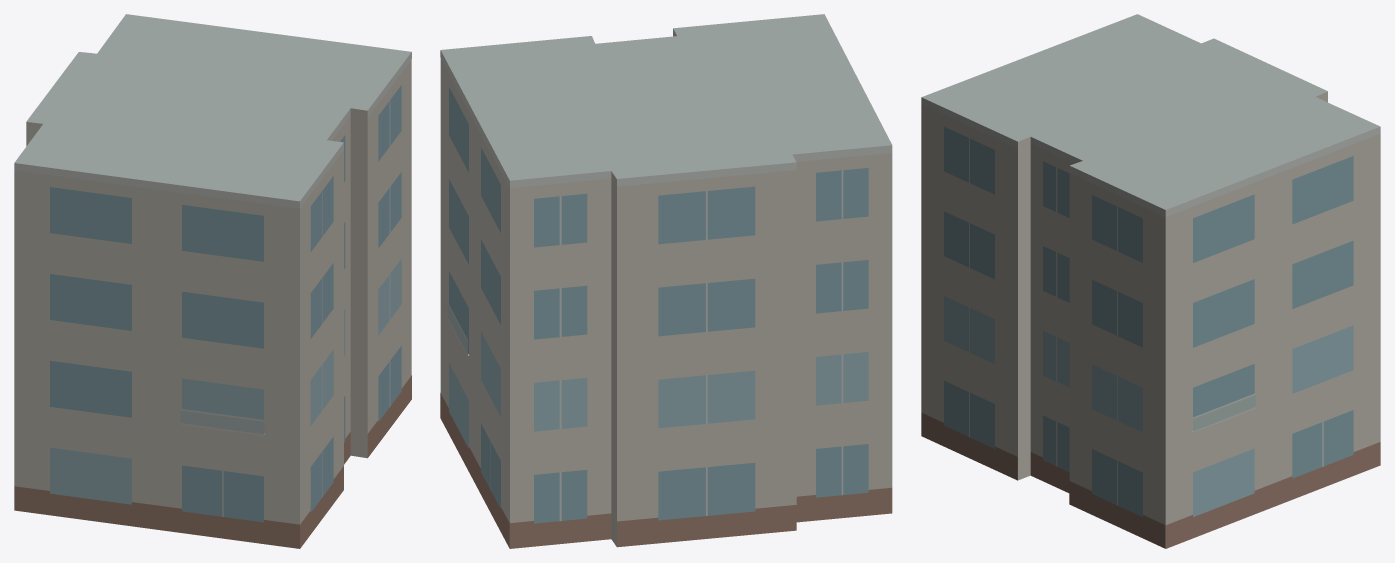
File: survey-upis-32645809.glb
The picture shows the model from 3 angles, left to right: view 1: azimuth 30°, elevation 25°; view 2: azimuth 150°, elevation 25°; view 3: azimuth 270°, elevation 25°; orthographic projection. The views are drawn at different scales.
Parts seen in each view (by area): view 1: survey-upis-32645809.tmp; view 2: survey-upis-32645809.tmp; view 3: survey-upis-32645809.tmp.
Part boxes in pixels (x1,y1,x2,y2): survey-upis-32645809.tmp: (14, 14, 411, 548); survey-upis-32645809.tmp: (440, 14, 892, 548); survey-upis-32645809.tmp: (921, 14, 1380, 548).
Bounding box in the file's own units: 14.53 × 11.7 × 14.38.
